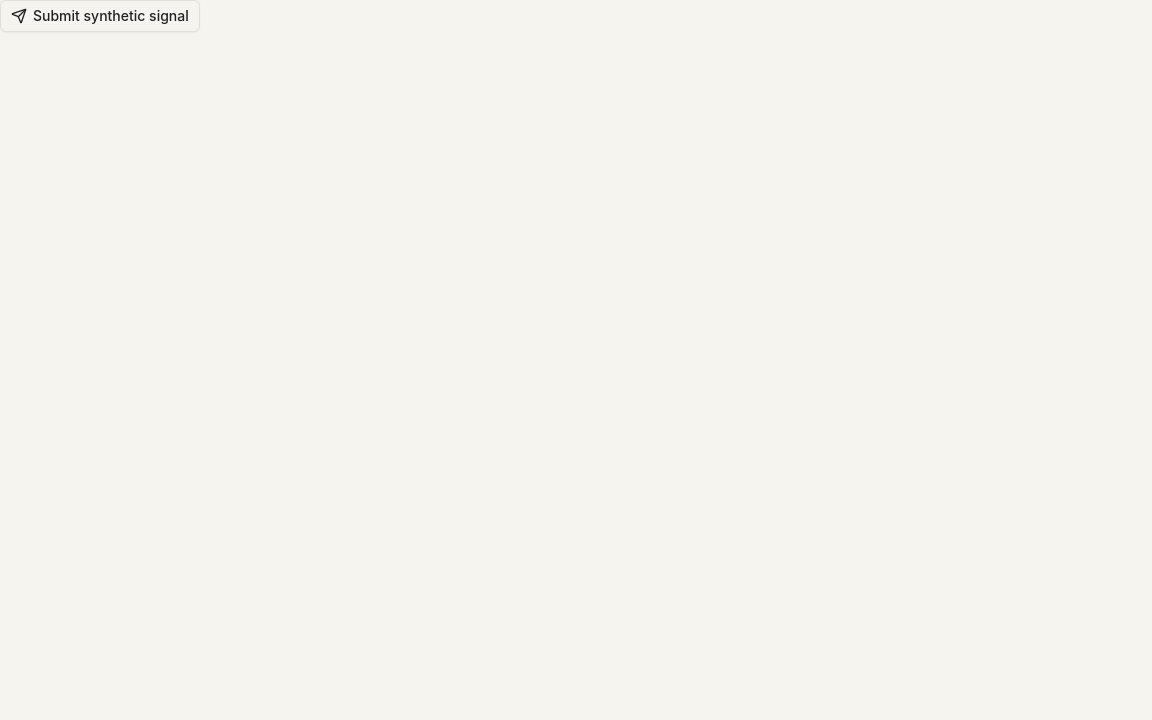
Test: SubmitSignalSheet › shows field paths and codes for a rejected signal, never values
Click the button "Submit synthetic signal" at (100, 16), box x1=0 y1=0 x2=200 y2=32
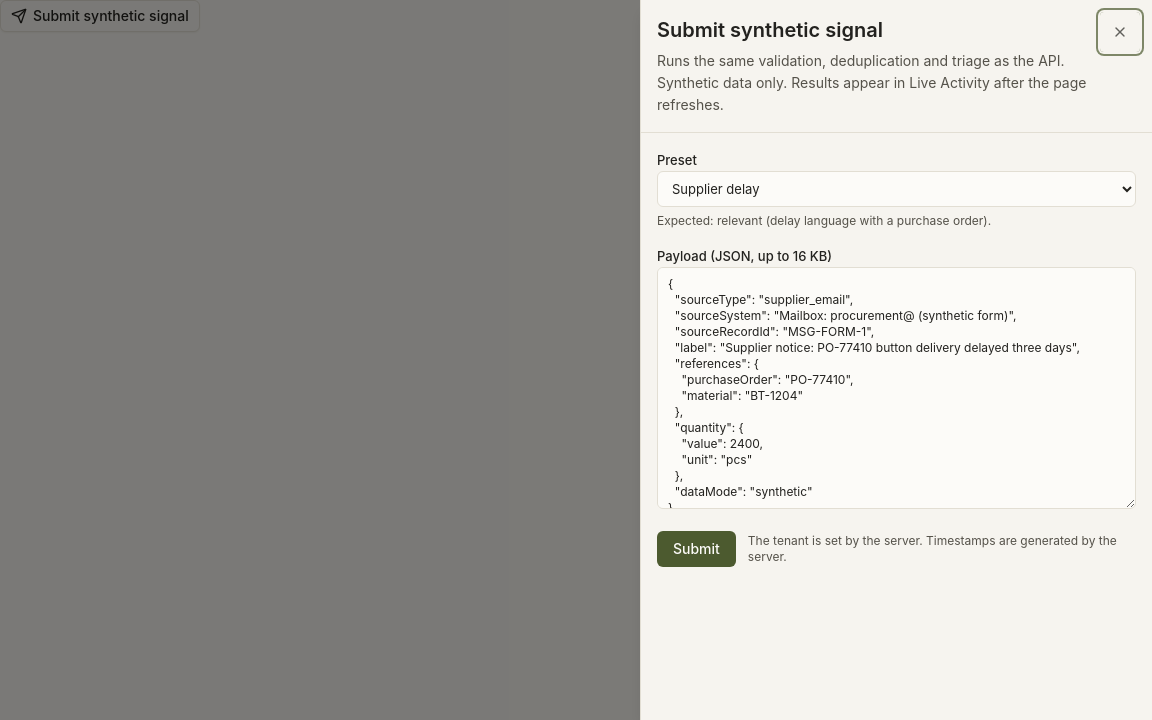
Click the button "Submit" at (696, 549), box x1=657 y1=531 x2=736 y2=567
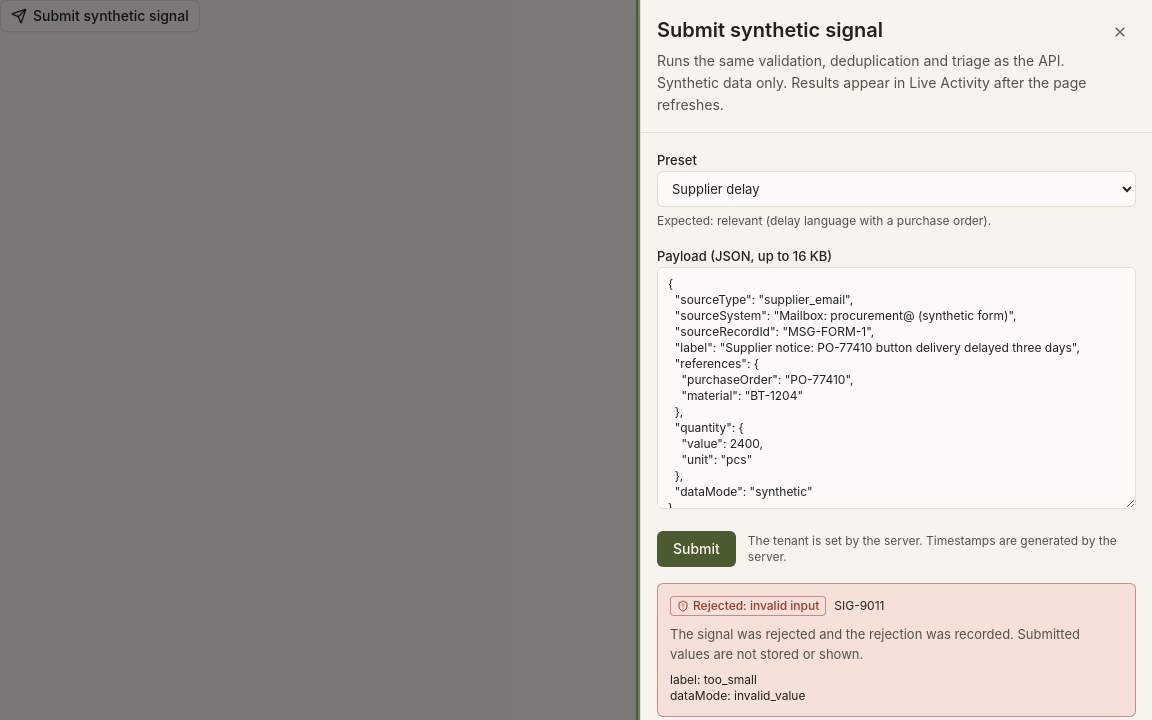
Check: the message shows "label: too_small", box x1=657 y1=583 x2=1136 y2=717
Check: the message shows "Rejected: invalid input", box x1=693 y1=598 x2=819 y2=613
Check: the message shows "dataMode: invalid_value", box x1=657 y1=583 x2=1136 y2=717
